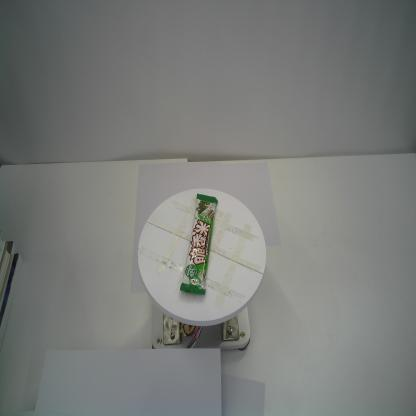Chocolate: (179, 192, 219, 297)
